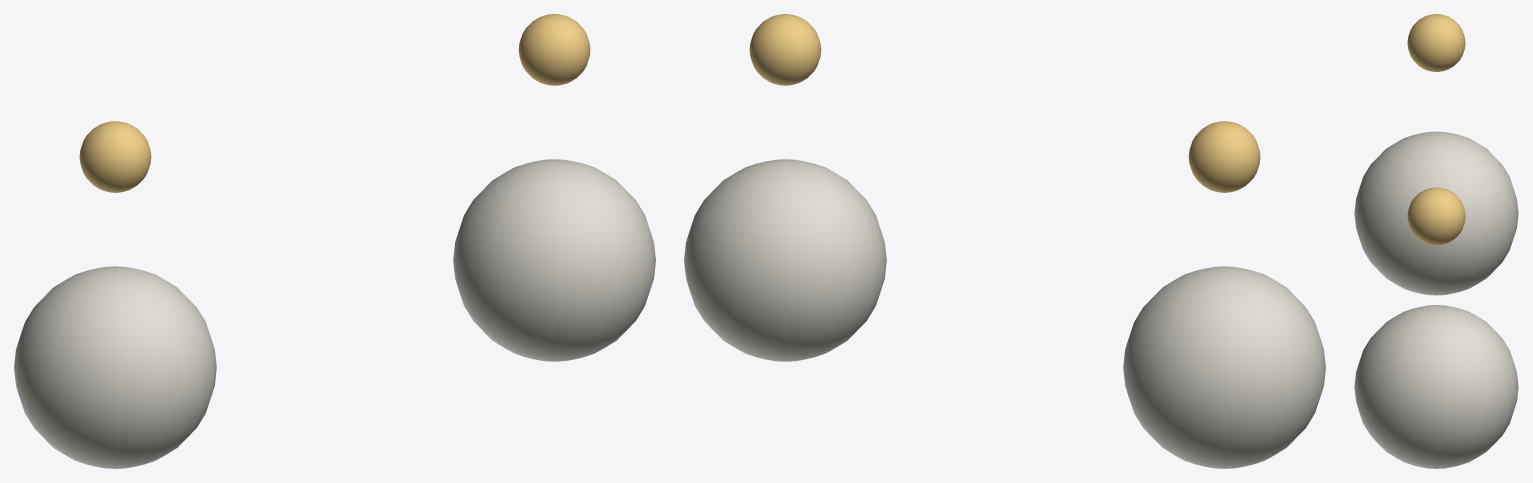
The picture shows the model from 3 angles, left to right: view 1: azimuth 30°, elevation 25°; view 2: azimuth 150°, elevation 25°; view 3: azimuth 270°, elevation 25°; orthographic projection. The views are drawn at different scales.
Size of the model in its own units: 1.68 by 0.875 by 0.48.
